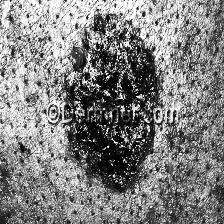Benign Marking or Mole: (65, 19, 159, 186)
